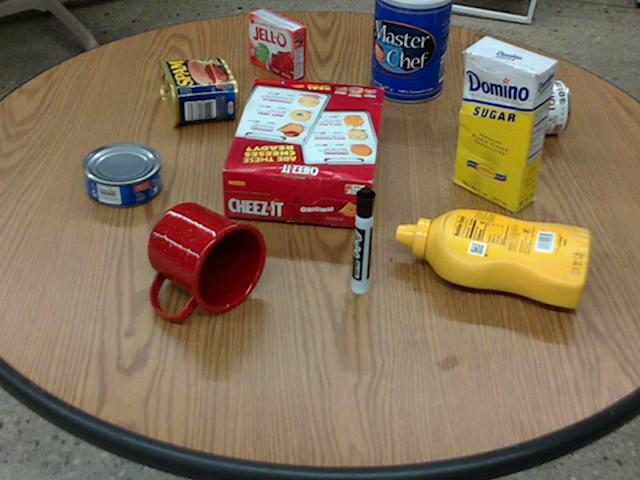cracker_box: (220, 79, 382, 228)
gelatin_box: (248, 8, 305, 79)
large_marker: (350, 186, 374, 293)
master_chef_can: (370, 0, 452, 101)
mug: (145, 203, 264, 318)
mustard_bottle: (395, 208, 588, 306)
potted_meat_can: (158, 58, 236, 124)
sugar_box: (454, 36, 555, 212)
tomato_soup_can: (474, 79, 568, 135)
tuna_fish_can: (81, 142, 160, 206)
